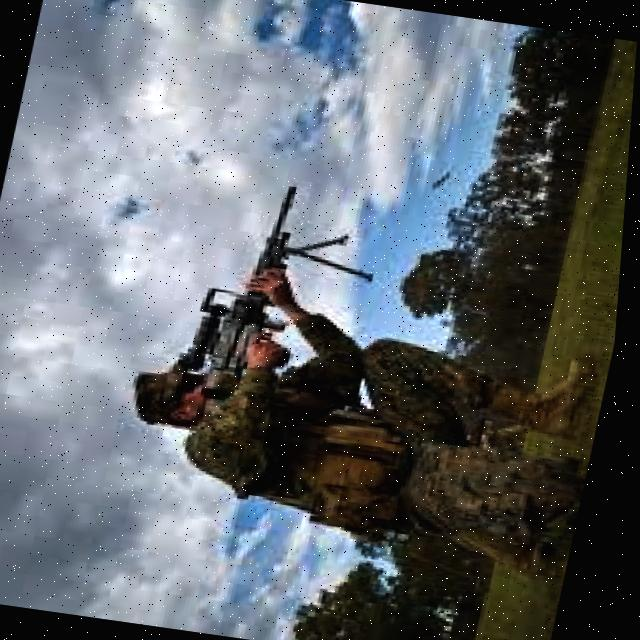firearm: (177, 173, 396, 439)
